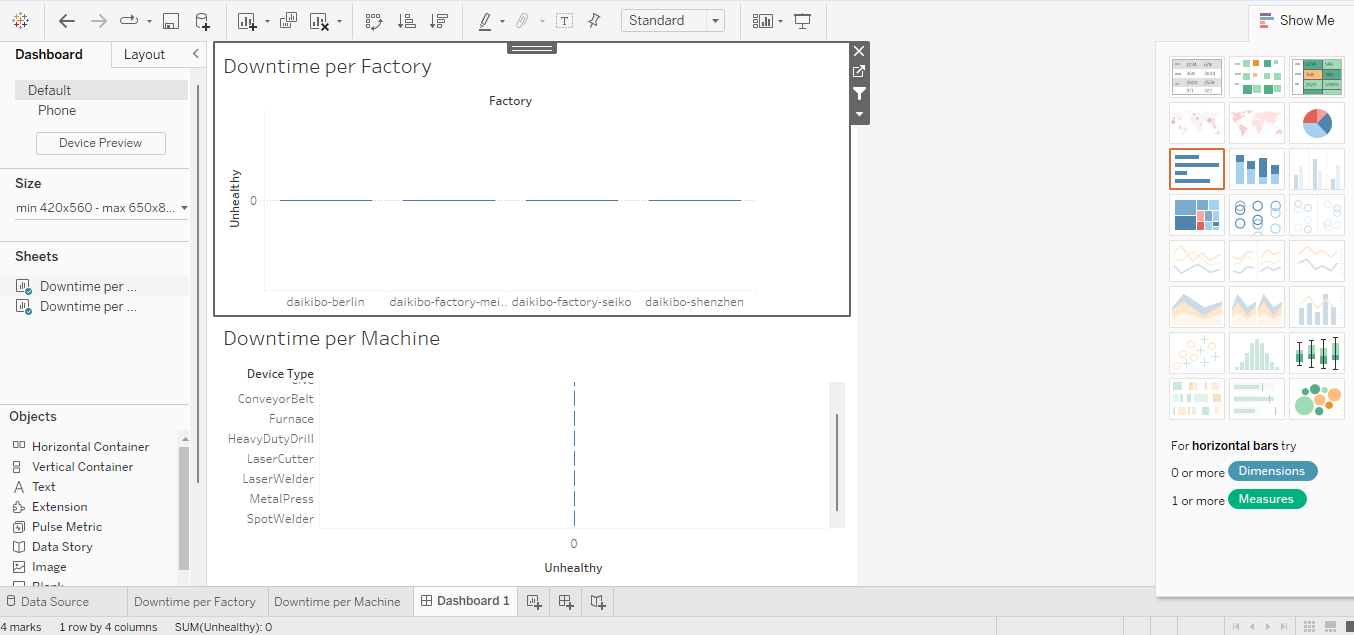

The dashboard page shown, as its layout file describes it:
{"tool":"tableau","page":{"name":"Dashboard 1","canvas":[650,860],"ordinal":0},"visuals":[{"type":"worksheet","title":"Downtime per Factory","mark":"Bar","rows":["Calculation_526639728533446659"],"cols":["factory"],"box":[8,12.3,634,417.7]},{"type":"worksheet","title":"Downtime per Machine","mark":"Automatic","rows":["deviceType"],"cols":["Calculation_526639728533446659"],"box":[8,430,634,417.7]}]}

Visuals, with their boxes on the page's 650x860 design canvas (x1, y1, x2, y2). These are canvas units, not pixel positions in the 1354x635 screenshot, which may show the page scaled, cropped or inside an application window:
"Downtime per Factory" worksheet (Bar marks): [8,12,642,430]
"Downtime per Machine" worksheet: [8,430,642,848]
